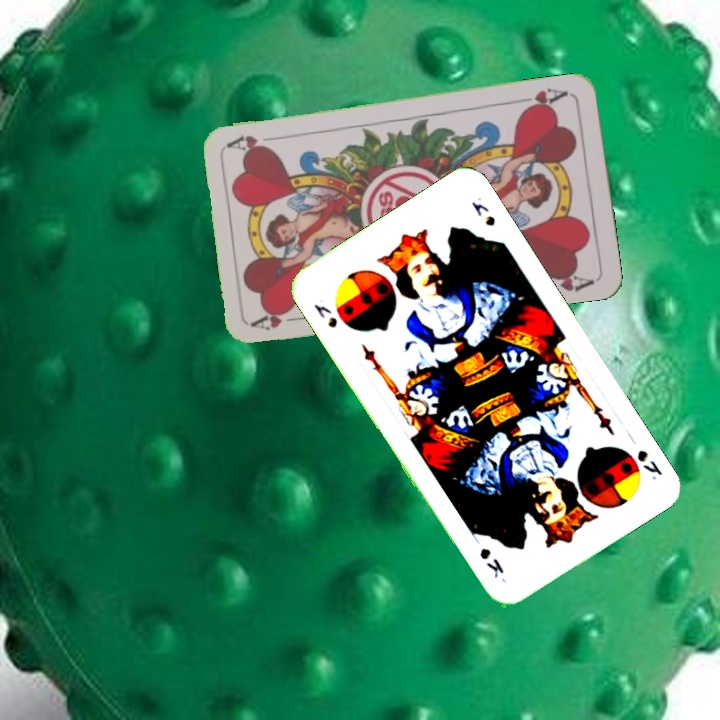HA: (249, 303, 309, 333), (513, 84, 571, 114)
SK: (633, 445, 665, 483), (310, 300, 340, 331)
